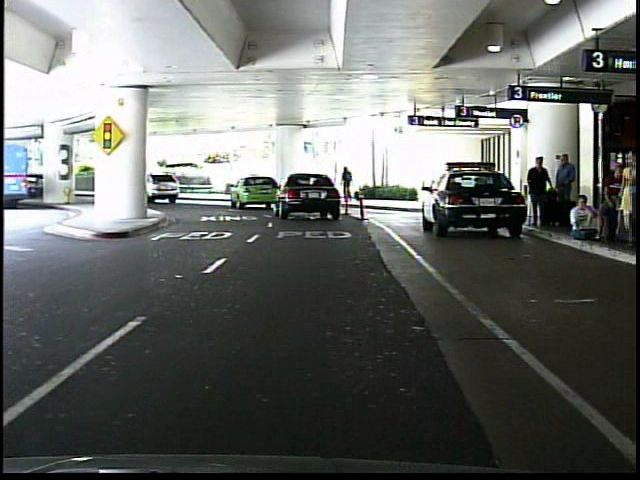person: (551, 148, 579, 230), (525, 152, 554, 228), (341, 162, 357, 205)
